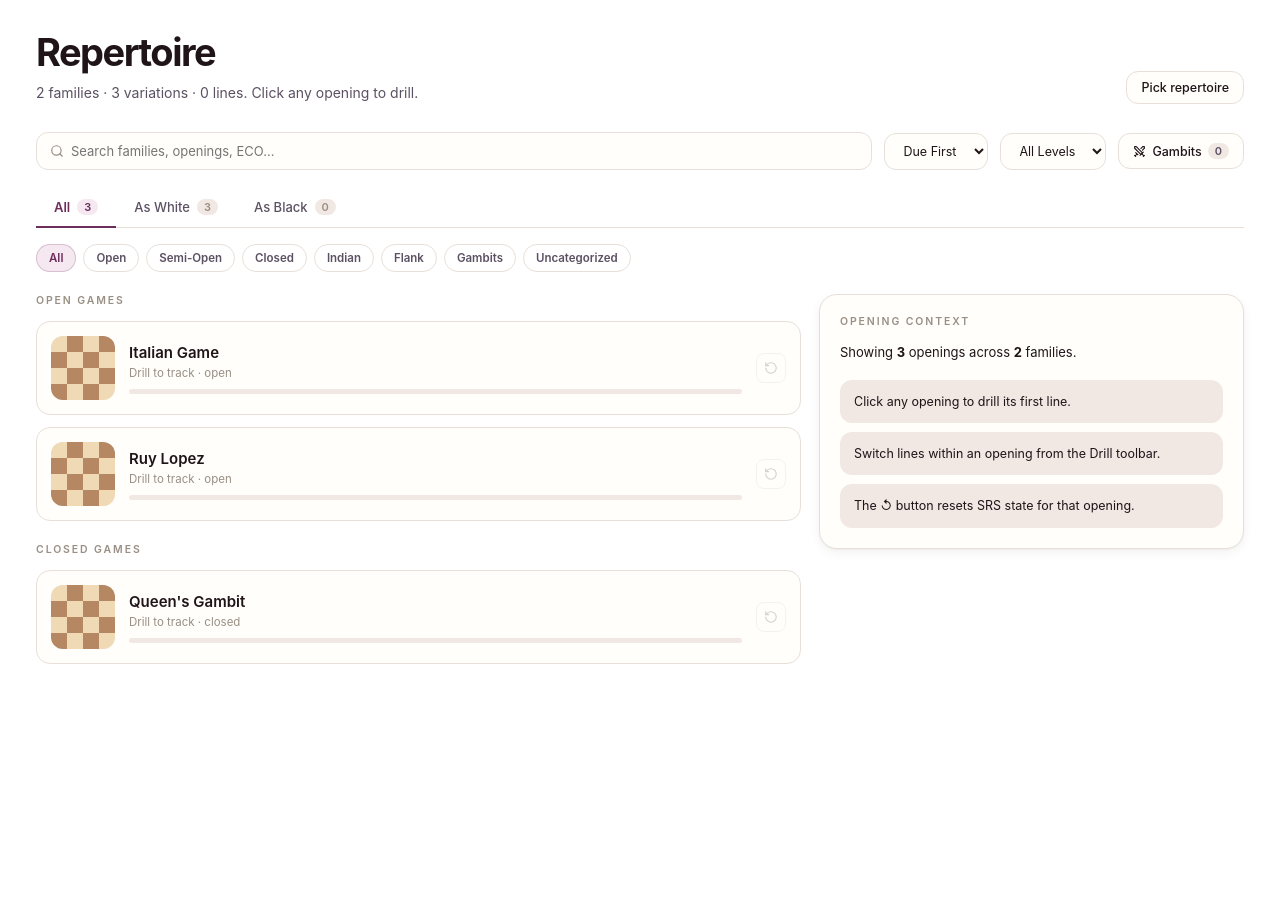
RepertoirePage › search filters families by opening name
The image size is (1280, 900).
expect the text "Open Games" is shown: met, box top-left (36, 294), bottom-right (125, 307)
Type "queen" into the search field with placeholder "Search families, openings, ECO…" at (454, 151), box top-left (36, 132), bottom-right (872, 170)
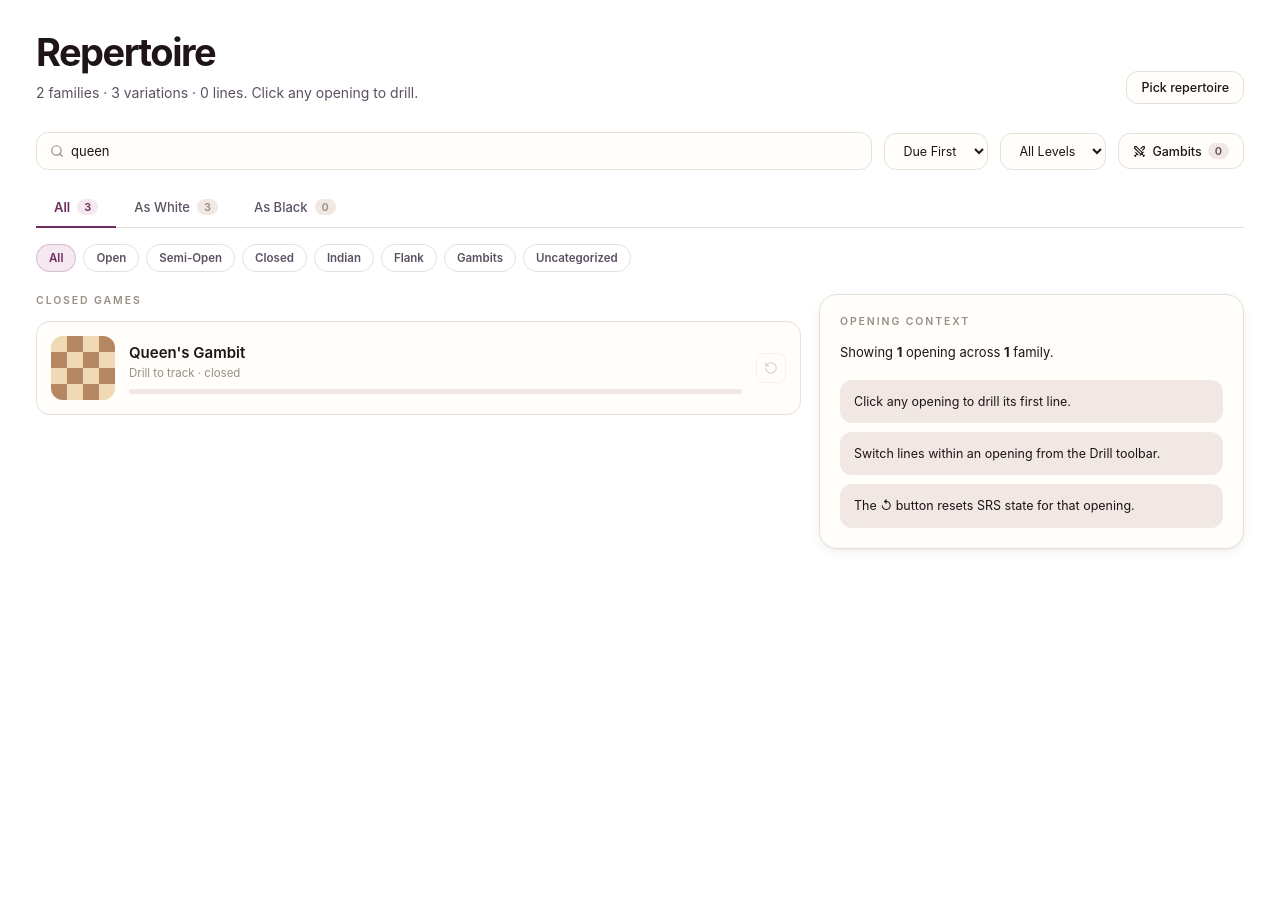
expect the text "Closed Games" is shown: met, box top-left (36, 294), bottom-right (142, 307)
expect the text "Open Games" is gone: met
